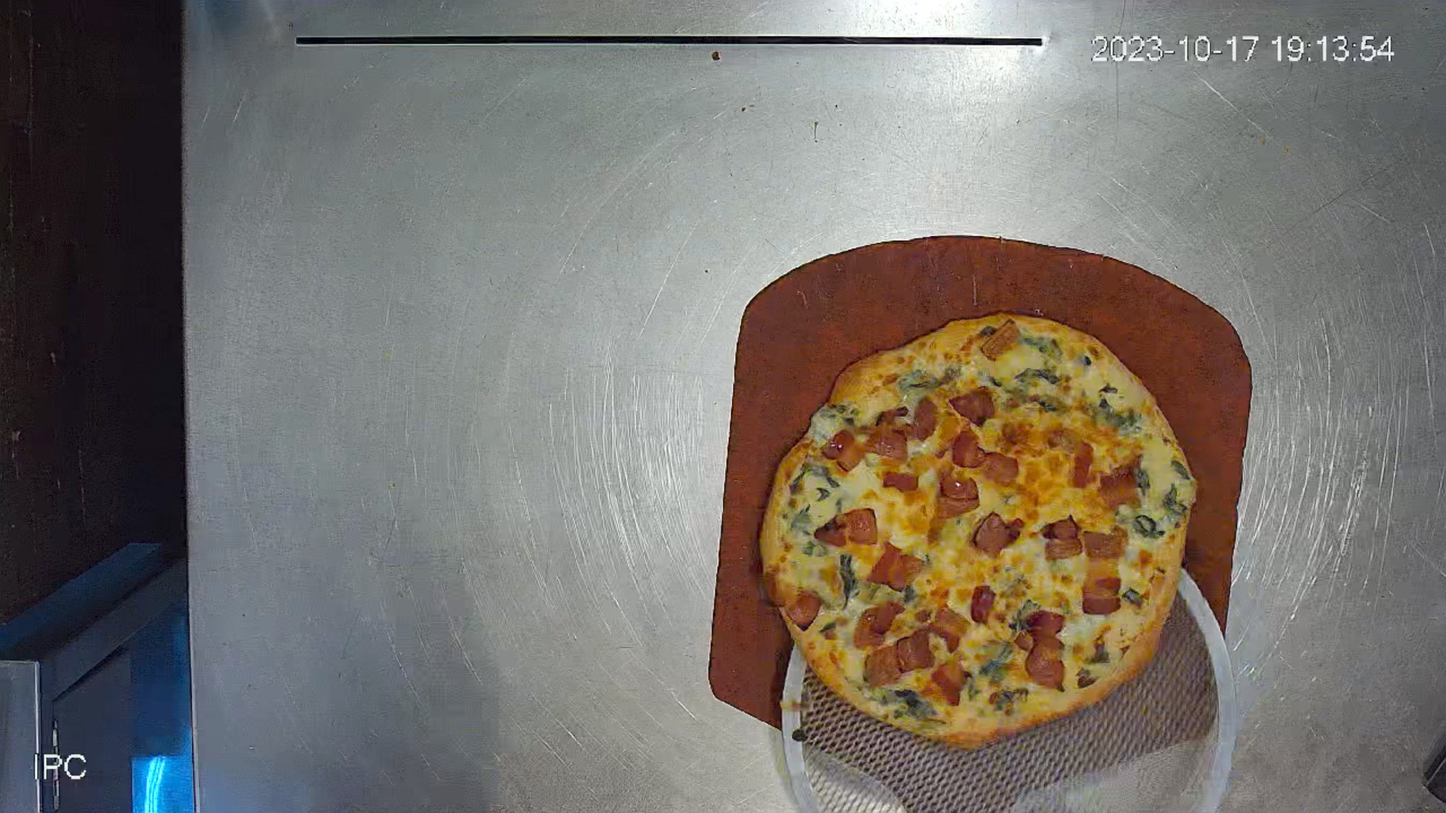bianca: (749, 303, 1208, 760)
